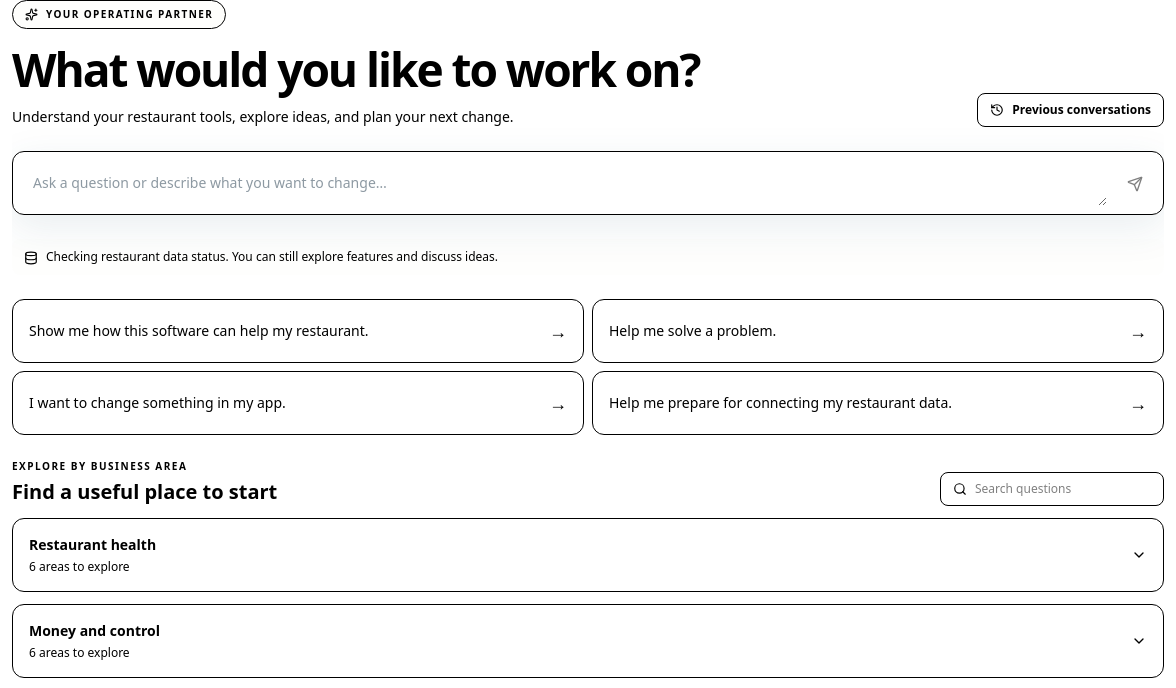
Scenario: owner OS without restaurant data › labels a creative answer as AI-written and names the modules it drew on
Type "How are my sales today and which dishes sell best?" into the text box named "Ask or describe a change" at (564, 183), box [21,160,1107,206]
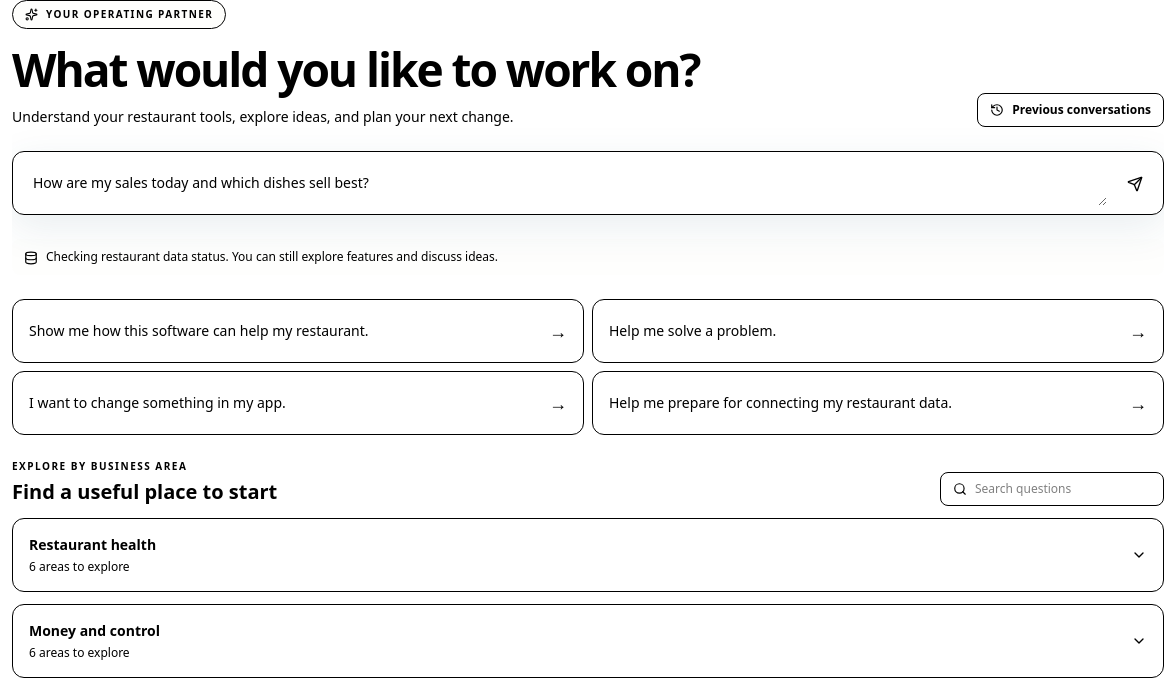
Click the button named "Send question" at (1135, 184), box [1115,164,1155,204]
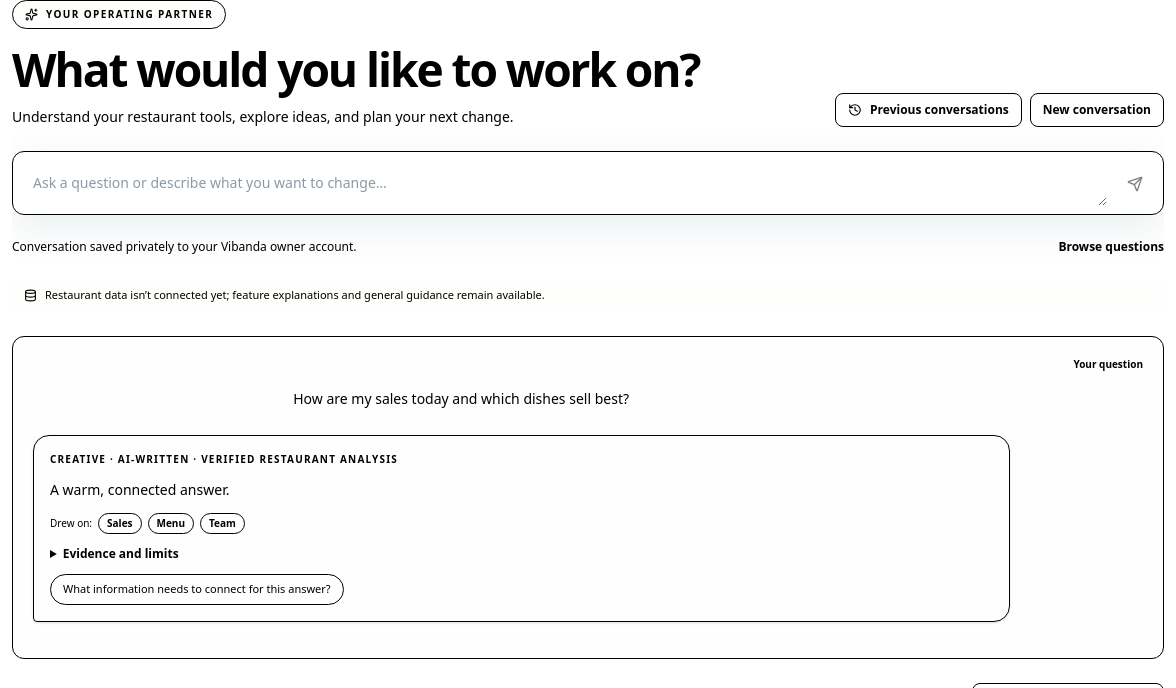
Result: the text "A warm, connected answer." is shown at [50,480,229,499]
Result: the text "Creative · AI-written · Verified restaurant analysis" is shown at [50,452,398,466]
Result: the text "Drew on:" reads "Drew on: Sales Menu Team" at [50,513,245,534]
